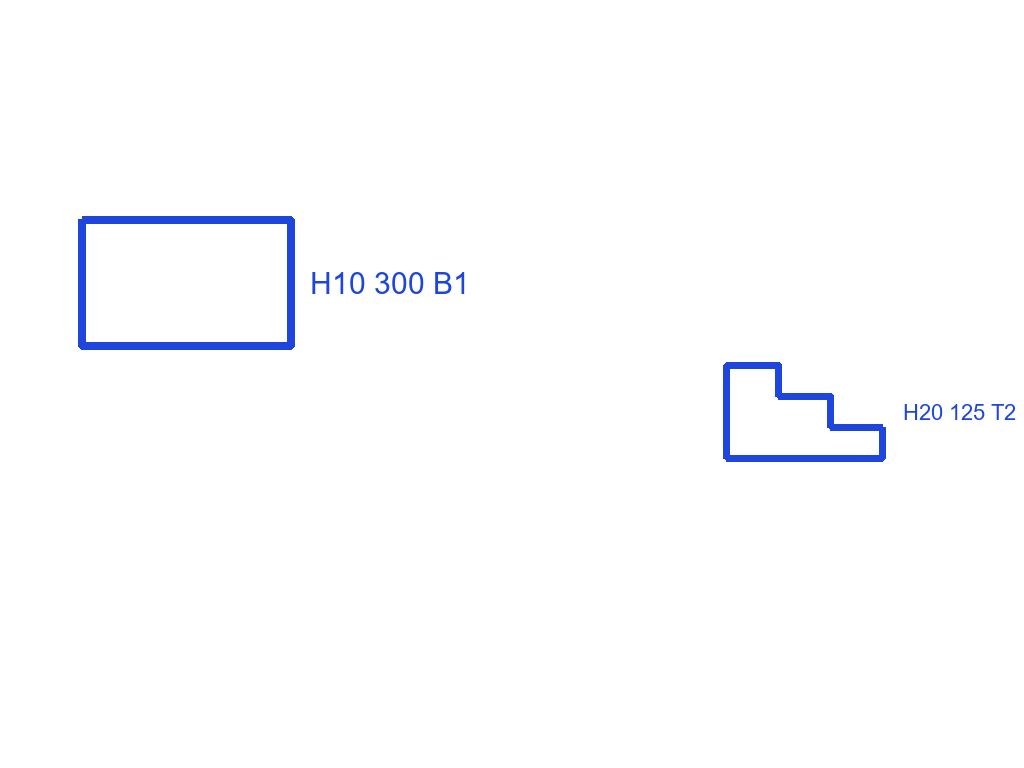shape: (76, 214, 296, 353), (721, 360, 888, 464)
text: (308, 270, 472, 296), (901, 402, 1018, 422)
